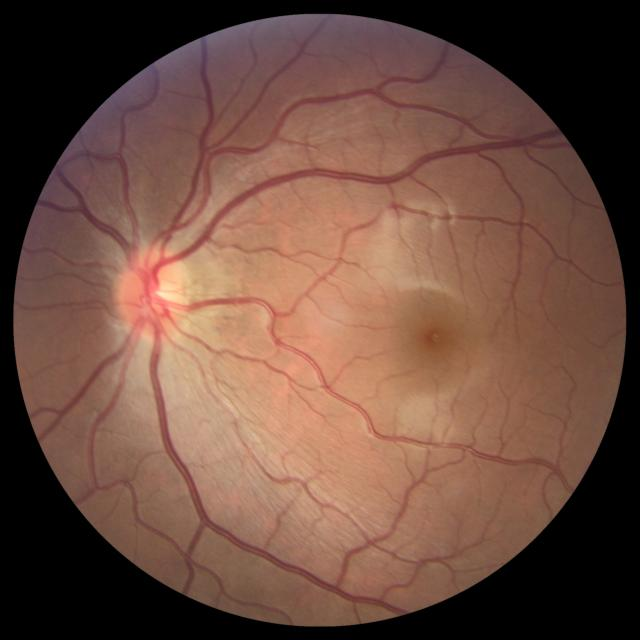OC: (136, 274, 176, 313)
OD: (116, 248, 190, 334)
